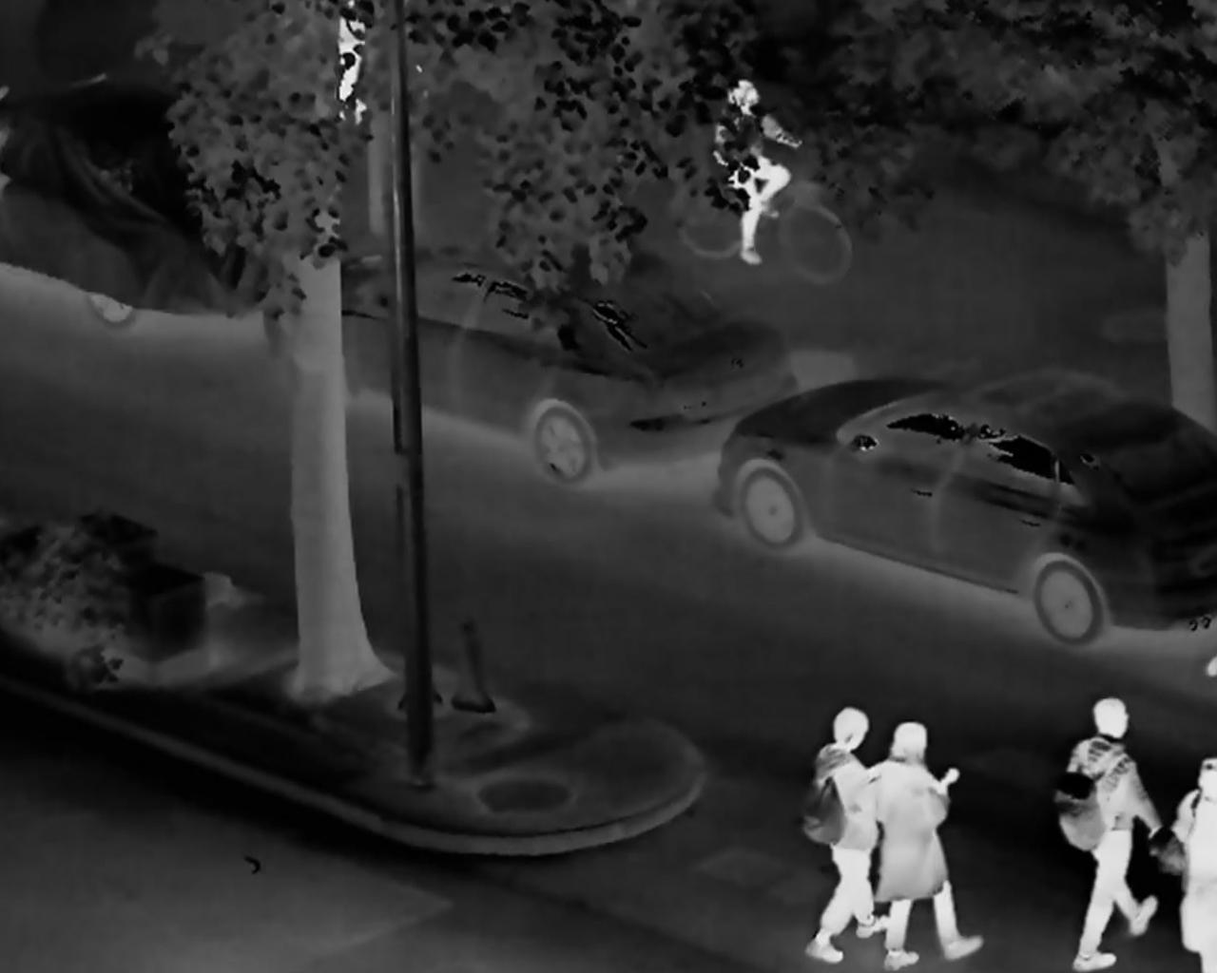person: (879, 715, 992, 973), (1063, 691, 1163, 973), (800, 695, 893, 965), (706, 70, 803, 273), (1169, 727, 1211, 973), (317, 7, 370, 130)
